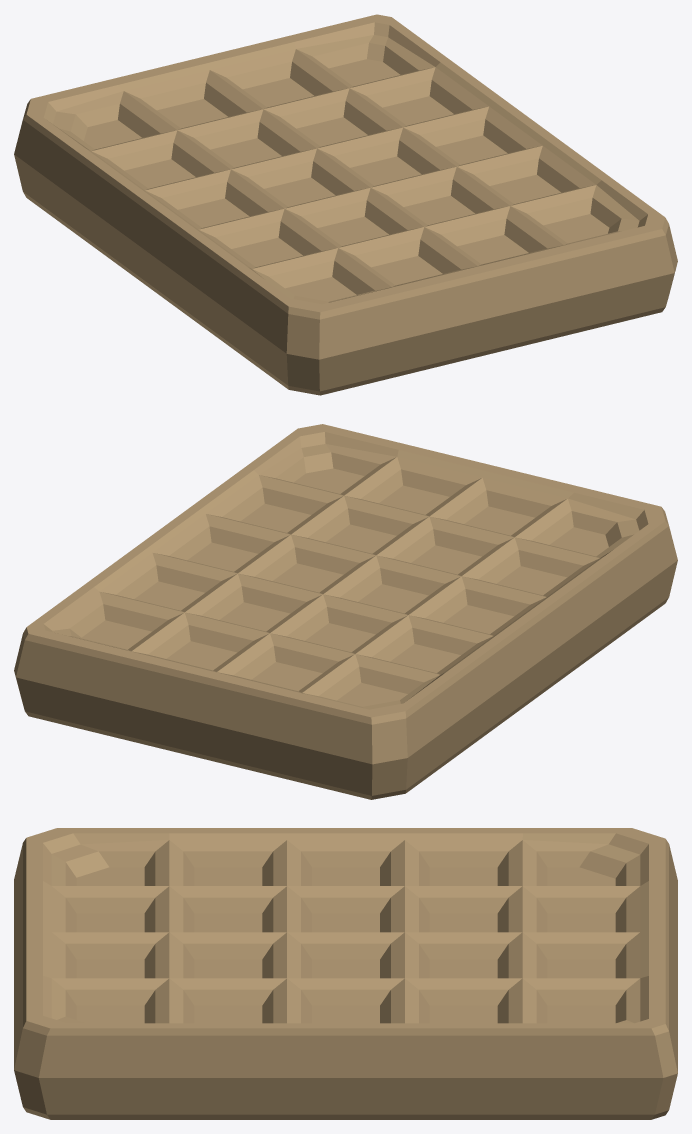
The model's file is Waffle.fbx.
3 views of the same model, one above another, from view 1: azimuth 30°, elevation 25°; view 2: azimuth 150°, elevation 25°; view 3: azimuth 270°, elevation 25° (orthographic). The views are drawn at different scales.
Visible parts, largest first — view 1: Waffle.003, Waffle.002, Waffle.001, Waffle.004, Waffle; view 2: Waffle.002, Waffle.003, Waffle.001, Waffle.004, Waffle; view 3: Waffle.002, Waffle.003, Waffle.001, Waffle.004, Waffle.
Boxes of the visible parts, x1=… form: Waffle.003: x1=230, y1=178, x2=677, y2=395; Waffle.002: x1=14, y1=14, x2=449, y2=234; Waffle.001: x1=123, y1=99, x2=556, y2=314; Waffle.004: x1=69, y1=60, x2=503, y2=273; Waffle: x1=177, y1=138, x2=610, y2=351; Waffle.002: x1=14, y1=584, x2=462, y2=799; Waffle.003: x1=245, y1=424, x2=677, y2=640; Waffle.001: x1=138, y1=507, x2=568, y2=717; Waffle.004: x1=85, y1=546, x2=515, y2=756; Waffle: x1=191, y1=467, x2=621, y2=677; Waffle.002: x1=522, y1=828, x2=677, y2=1119; Waffle.003: x1=14, y1=828, x2=169, y2=1119; Waffle.001: x1=281, y1=828, x2=405, y2=1119; Waffle.004: x1=405, y1=828, x2=522, y2=1119; Waffle: x1=169, y1=828, x2=287, y2=1119.
Size of the model in its own units: 113 by 23.22 by 153.
